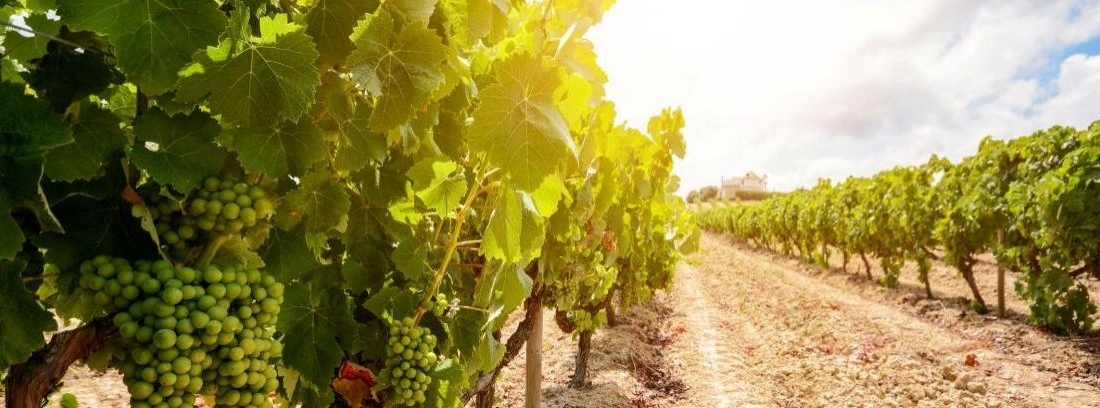Green grapes: (68, 262, 226, 407), (207, 264, 278, 408), (194, 167, 284, 244), (380, 303, 442, 408)
